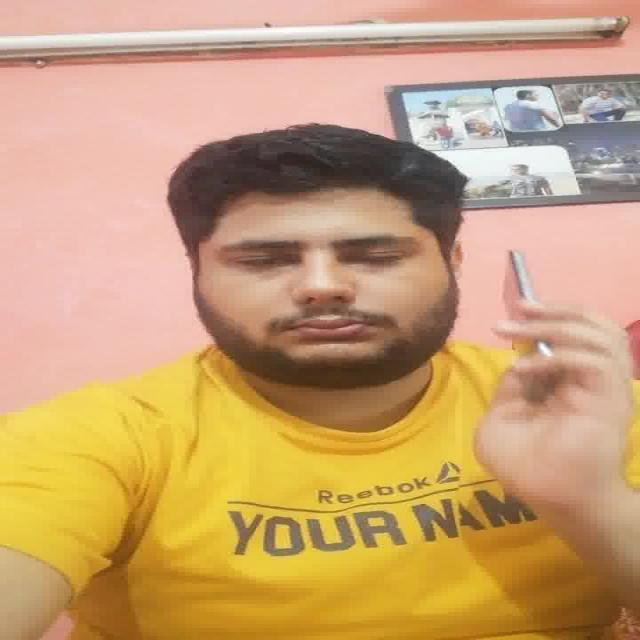Phone: (497, 246, 561, 408)
